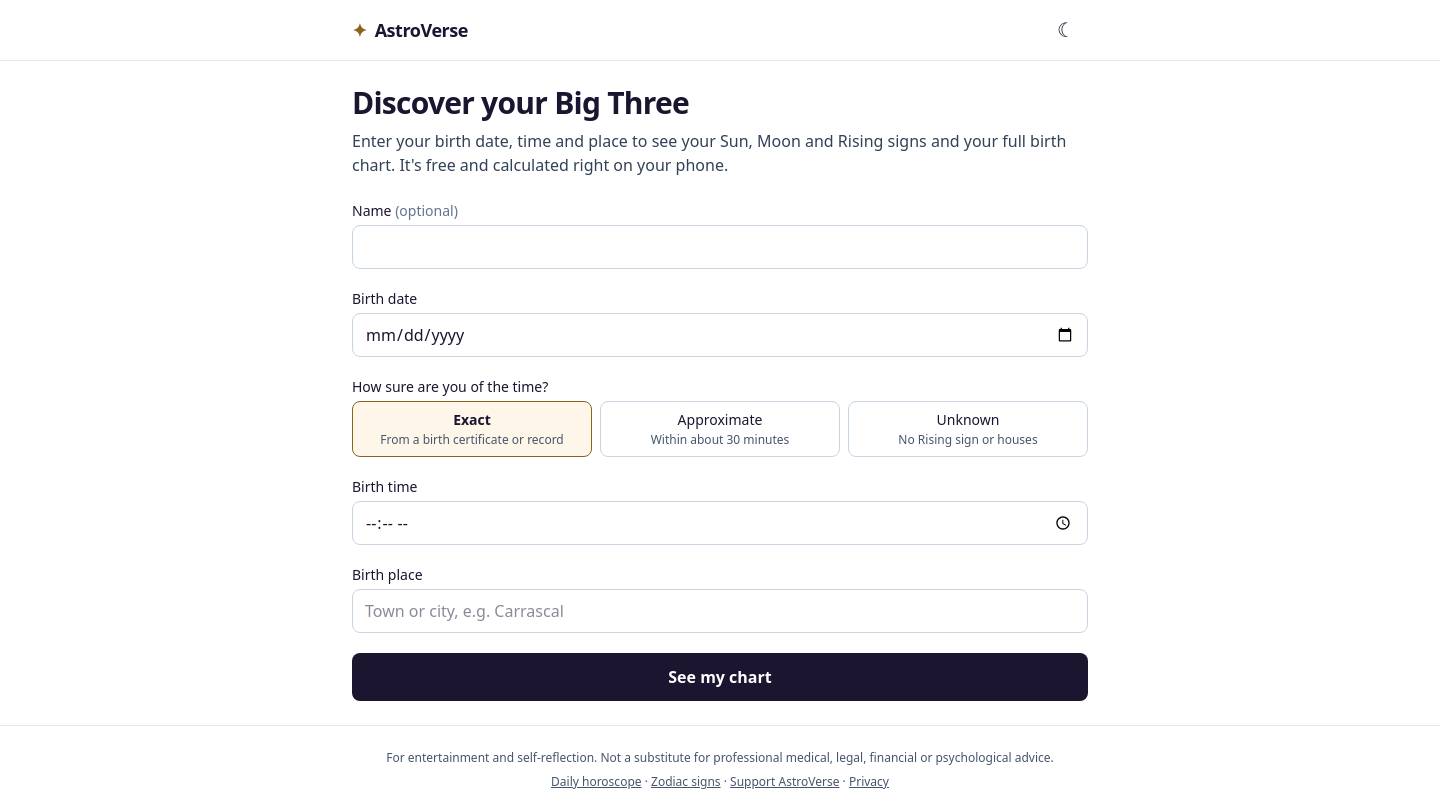
Test case: Birth form → chart (PRD F1 acceptance) › lists Philippine results first and shows the chosen place details
In the dropdown labelled "Birth place": [720, 611] box x1=352 y1=589 x2=1088 y2=633, type "Carrascal"
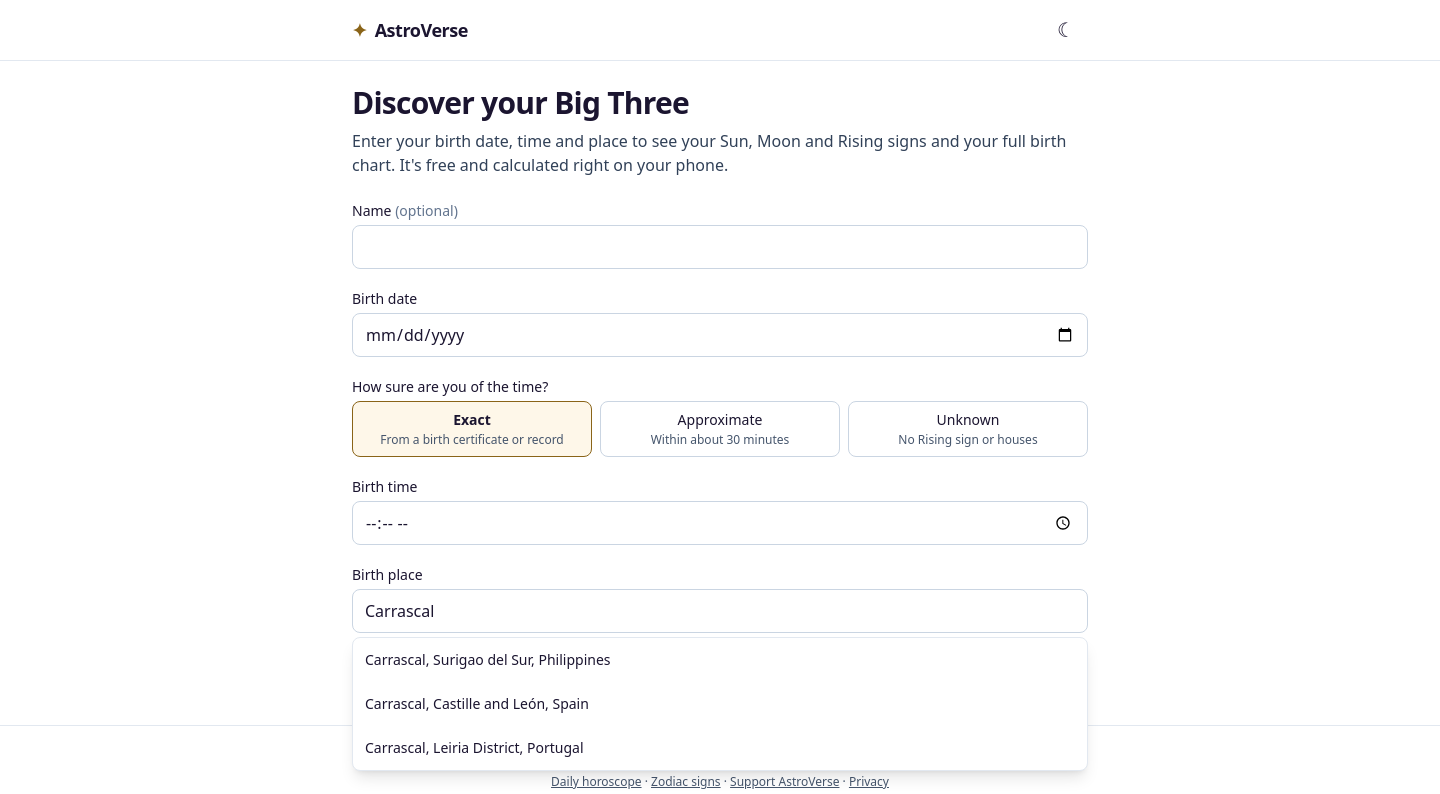
Expected: the option "Carrascal, Surigao del Sur, Philippines" is shown
Click the option "Carrascal, Surigao del Sur, Philippines": [488, 660] box x1=365 y1=650 x2=610 y2=669
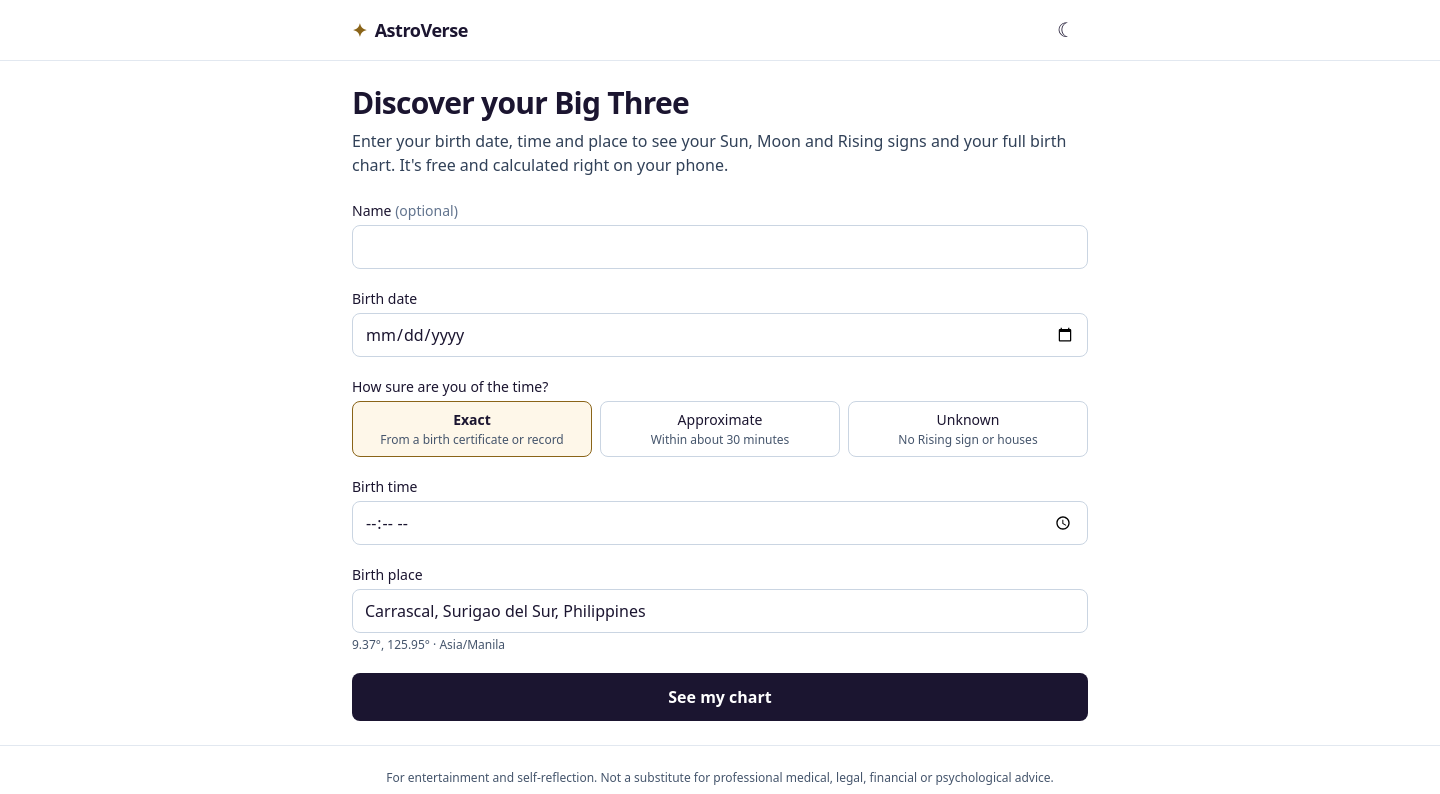
Expected: the text "9.37°, 125.95° · Asia/Manila" is shown, x1=352 y1=636 x2=505 y2=653
